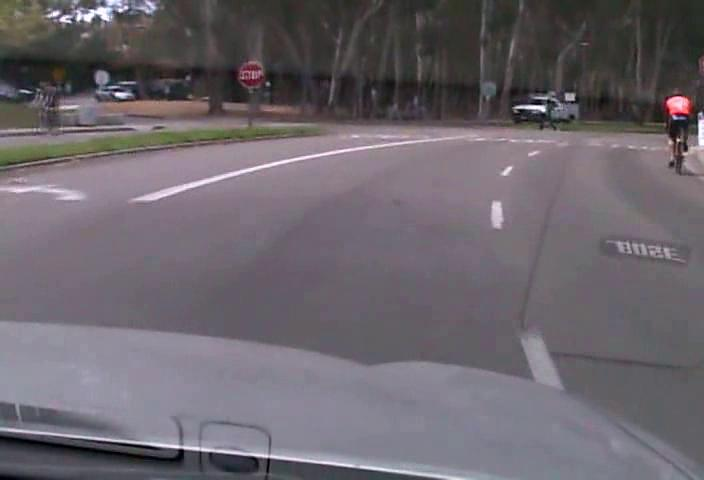stop: (238, 60, 264, 88)
